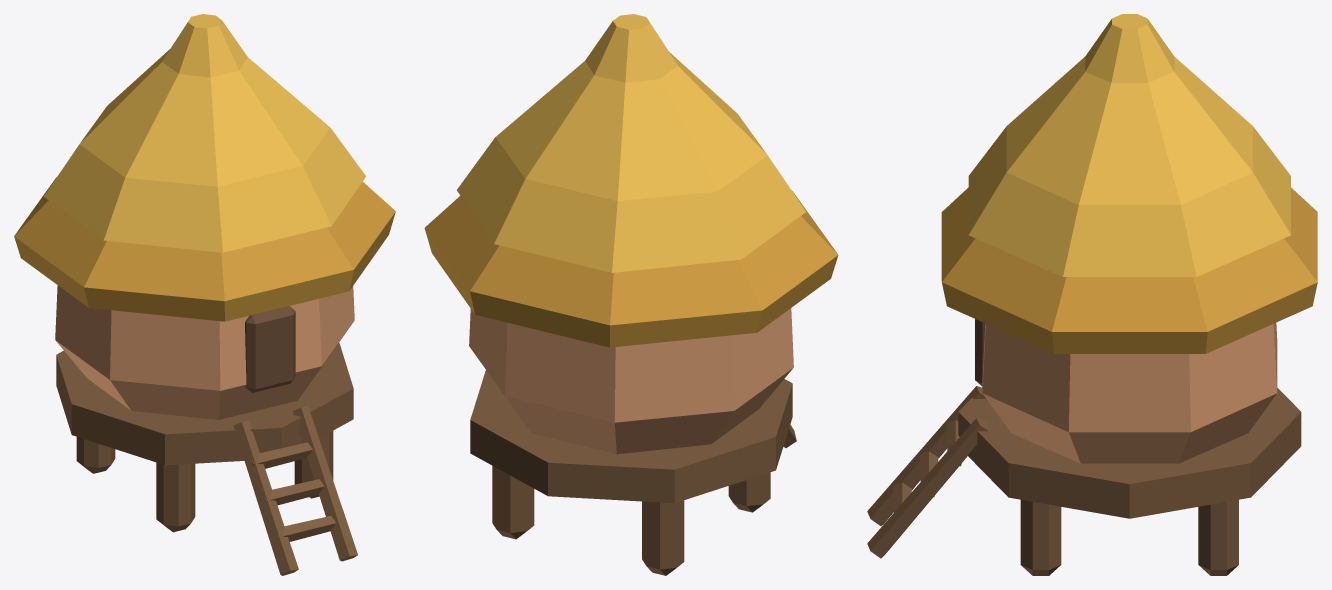
Rendered from ns-granary.glb.
The picture shows the model from 3 angles, left to right: view 1: azimuth 30°, elevation 25°; view 2: azimuth 150°, elevation 25°; view 3: azimuth 270°, elevation 25°; orthographic projection. The views are drawn at different scales.
Visible parts, largest first — view 1: Cube; view 2: Cube; view 3: Cube.
Boxes of the visible parts, x1,y1,x2,y2 form: Cube: (14, 14, 395, 575); Cube: (424, 14, 838, 575); Cube: (867, 14, 1317, 575).
Bounding box in the file's own units: 0.316 × 0.4512 × 0.3548.
